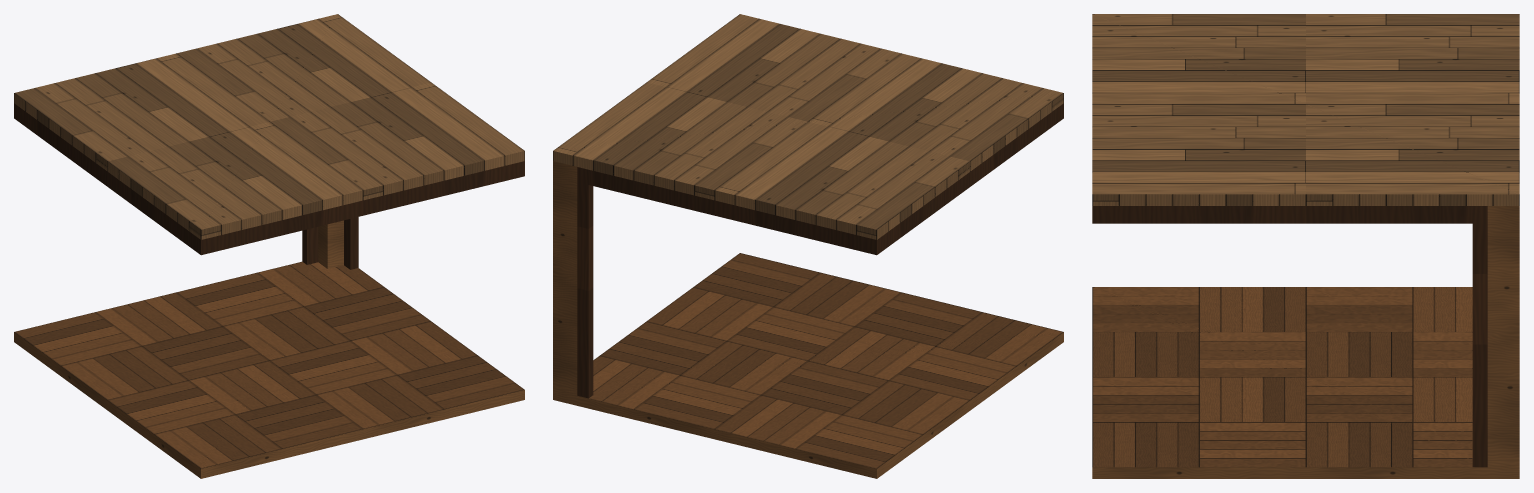
Rendered from Room_Cabin_Pillar.glb.
3 views of the same model, side by side, from view 1: azimuth 30°, elevation 25°; view 2: azimuth 150°, elevation 25°; view 3: azimuth 270°, elevation 25° (orthographic). The views are drawn at different scales.
Visible parts, largest first — view 1: Room_Cabin_Pillar_Ceiling, Room_Cabin_Pillar; view 2: Room_Cabin_Pillar, Room_Cabin_Pillar_Ceiling; view 3: Room_Cabin_Pillar_Ceiling, Room_Cabin_Pillar.
Part boxes in pixels (x1,y1,x2,y2): Room_Cabin_Pillar_Ceiling: [14, 14, 524, 255]; Room_Cabin_Pillar: [14, 217, 524, 478]; Room_Cabin_Pillar: [553, 161, 1063, 478]; Room_Cabin_Pillar_Ceiling: [553, 14, 1063, 255]; Room_Cabin_Pillar_Ceiling: [1092, 14, 1519, 223]; Room_Cabin_Pillar: [1092, 206, 1519, 478].
Bounding box in the file's own units: 4 × 2.94 × 4.
7 materials, 5 textured.
